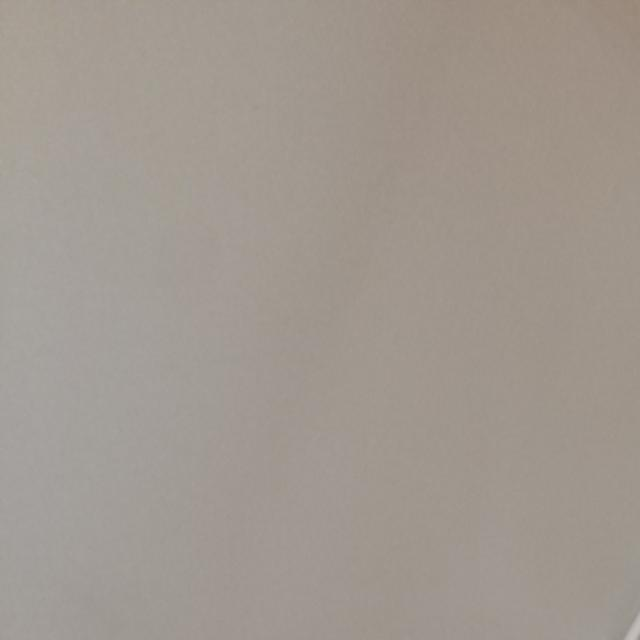fluorescent tube: (321, 49, 640, 640)
